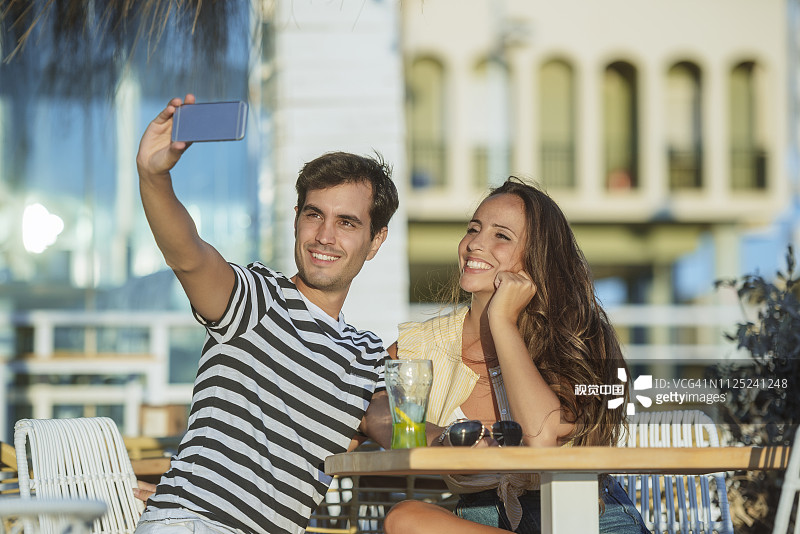taking photos: (119, 86, 265, 197)
